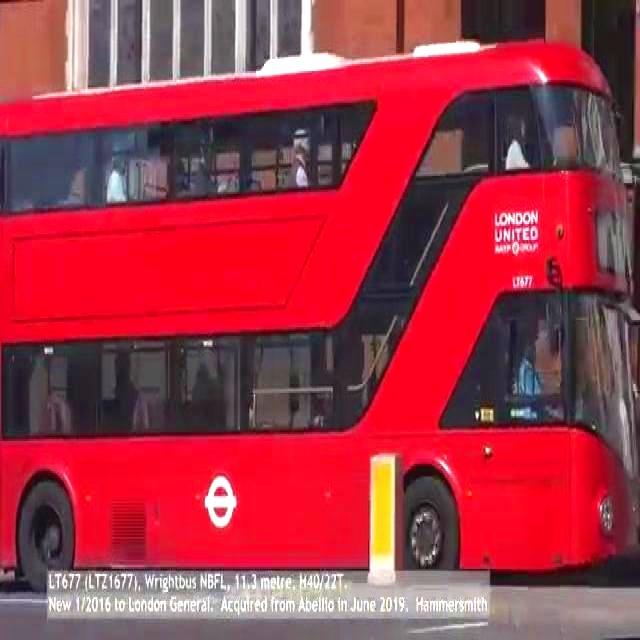bus: (5, 27, 635, 617)
